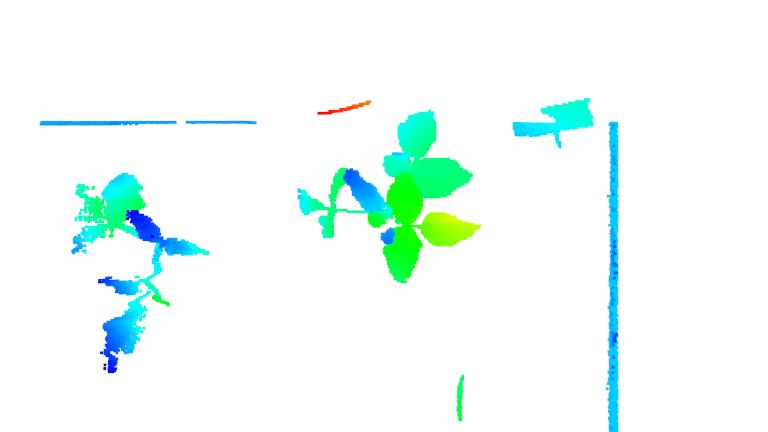mungbean: (297, 106, 480, 284), (63, 171, 213, 375)
